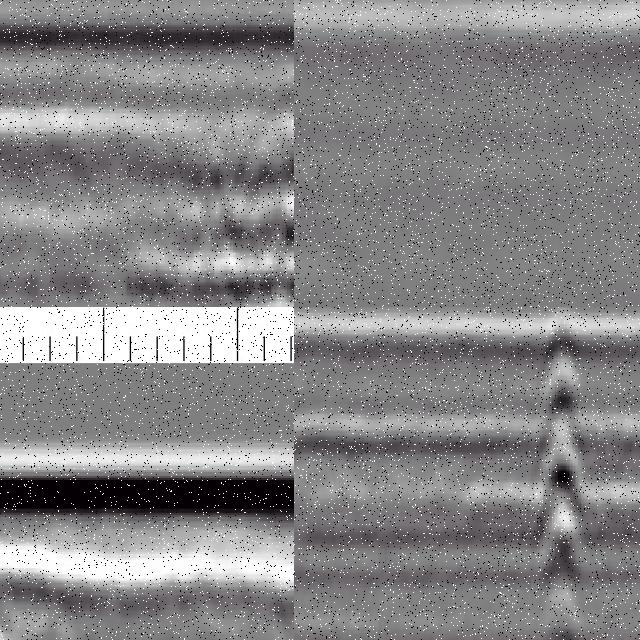crack: (539, 308, 582, 640)
loose: (162, 137, 295, 308), (1, 552, 161, 640)
